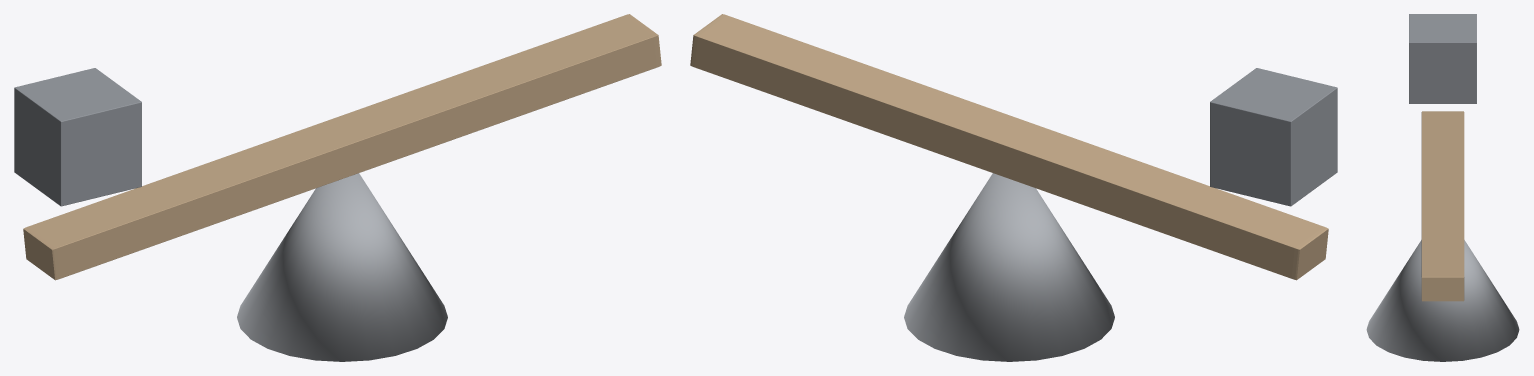
Rendered from lever.glb.
The picture shows the model from 3 angles, left to right: view 1: azimuth 30°, elevation 25°; view 2: azimuth 150°, elevation 25°; view 3: azimuth 270°, elevation 25°; orthographic projection. The views are drawn at different scales.
Parts seen in each view (by area): view 1: Cube; view 2: Cube; view 3: Cube.
Part boxes in pixels (box(x1,y1,x2,y2)): Cube: box(14, 14, 661, 361); Cube: box(690, 14, 1337, 361); Cube: box(1366, 14, 1519, 361).
Bounding box in the file's own units: 0.4 × 0.18 × 0.12.
